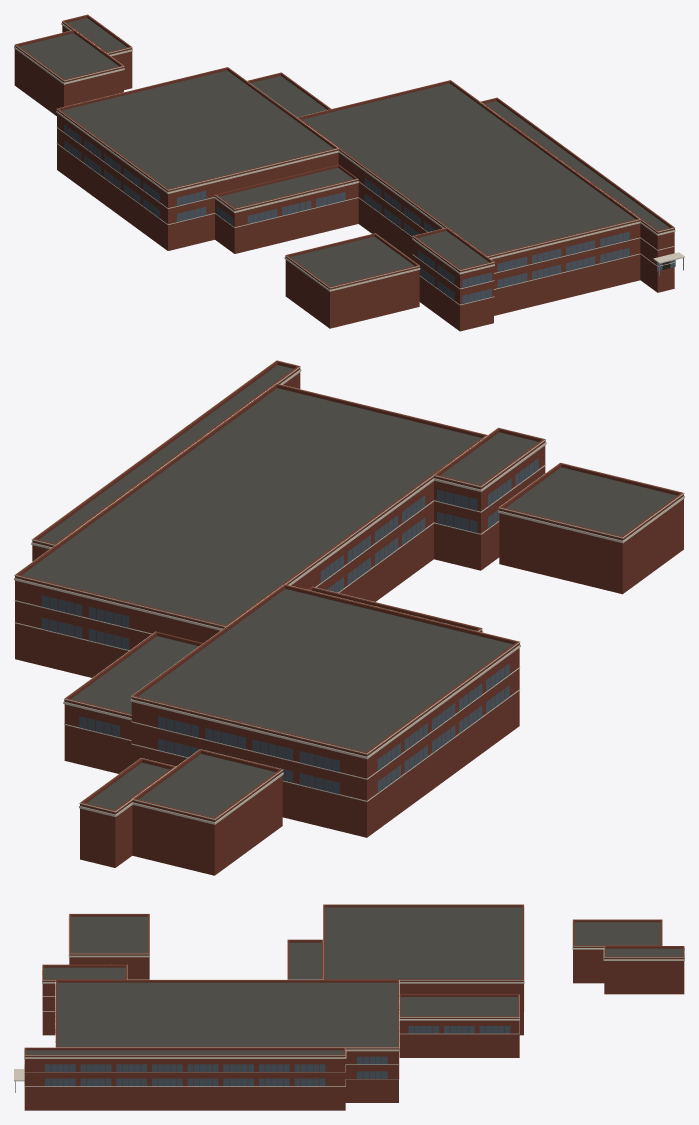
The model's file is sylvan-hills-high-school.glb.
3 renders of one model, top to bottom at view 1: azimuth 30°, elevation 25°; view 2: azimuth 150°, elevation 25°; view 3: azimuth 270°, elevation 25°, orthographic. The views are drawn at different scales.
Parts seen in each view (by area): view 1: sylvan_hills_high_school; view 2: sylvan_hills_high_school; view 3: sylvan_hills_high_school.
Boxes of the visible parts, bbox=[...] form: sylvan_hills_high_school: bbox=[14, 14, 684, 331]; sylvan_hills_high_school: bbox=[14, 360, 684, 875]; sylvan_hills_high_school: bbox=[14, 904, 684, 1110].
Size of the model in its own units: 81.12 by 13.69 by 151.
